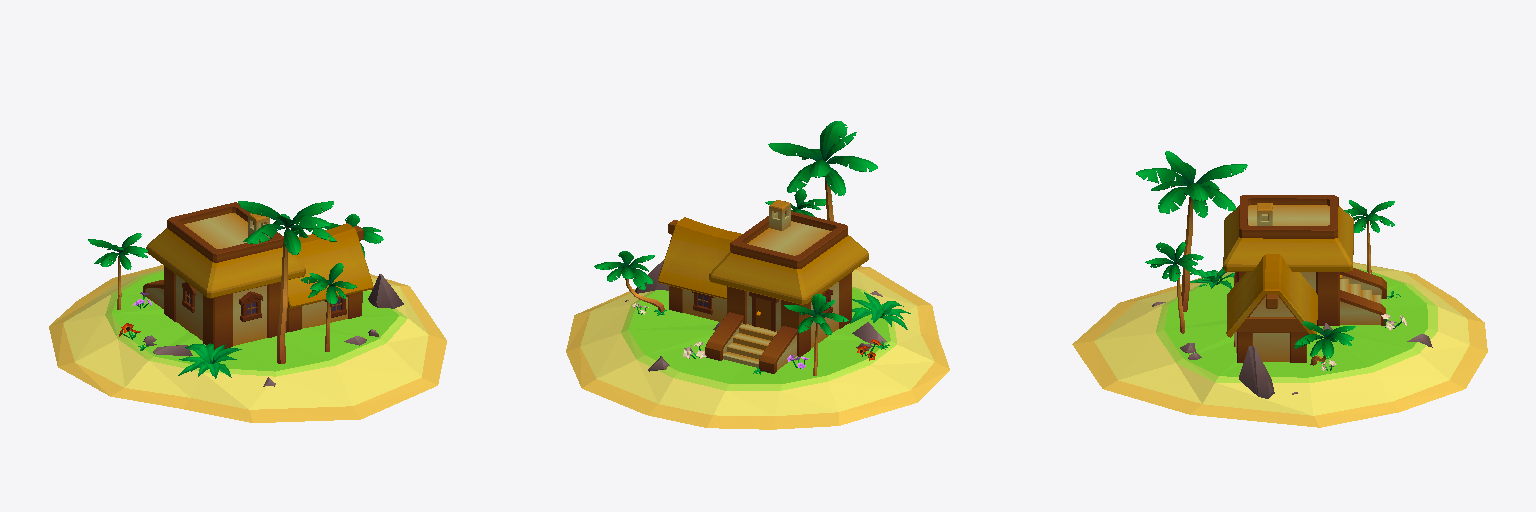
The picture shows the model from 3 angles: view 1: azimuth 30°, elevation 25°; view 2: azimuth 150°, elevation 25°; view 3: azimuth 270°, elevation 25°; orthographic projection.
Visible parts, largest first — view 1: M_Island, Object001, Object002, Object003, B_Walls_2, B_Wood_01, roof001, Plant_01, PALM_TREE_A_TRUNK, B_Wood_04, B_Walls_1, B_Wood_02 (+1 smaller); view 2: M_Island, Object001, Object002, Object003, roof001, B_Stairs, Plant_01, B_Ramp_2, B_Ramp_1, B_Walls_2, B_Wood_02, B_Walls_1 (+4 smaller); view 3: M_Island, Object001, Object002, Object003, B_Walls_1, roof001, B_Wood_03, B_Wood_09, ramp003, PALM_TREE_A_TRUNK, B_Ramp_2.
Boxes of the visible parts, box(x1,y1,x2,y2) form: M_Island: box(49, 265, 446, 422); Object001: box(146, 228, 305, 298); Object002: box(288, 223, 373, 308); Object003: box(167, 202, 283, 262); B_Walls_2: box(176, 275, 266, 345); B_Wood_01: box(203, 293, 232, 349); roof001: box(184, 213, 247, 248); Plant_01: box(178, 343, 241, 378); PALM_TREE_A_TRUNK: box(277, 227, 288, 363); B_Wood_04: box(267, 282, 286, 337); B_Walls_1: box(302, 292, 362, 328); B_Wood_02: box(164, 266, 175, 321); M_Island: box(566, 260, 949, 429); Object001: box(709, 235, 868, 304); Object002: box(658, 217, 741, 299); Object003: box(730, 211, 847, 268); roof001: box(747, 221, 831, 255); B_Stairs: box(723, 324, 776, 367); Plant_01: box(850, 292, 910, 329); B_Ramp_2: box(705, 312, 743, 360); B_Ramp_1: box(759, 326, 797, 373); B_Walls_2: box(747, 282, 838, 347); B_Wood_02: box(781, 300, 810, 356); B_Walls_1: box(683, 289, 726, 321); M_Island: box(1072, 262, 1487, 427); Object001: box(1223, 205, 1353, 271); Object002: box(1226, 254, 1317, 337); Object003: box(1239, 195, 1338, 238); B_Walls_1: box(1234, 296, 1293, 361); roof001: box(1248, 205, 1329, 225); B_Wood_03: box(1316, 272, 1339, 325); B_Wood_09: box(1236, 317, 1307, 332); ramp003: box(1340, 301, 1380, 324); PALM_TREE_A_TRUNK: box(1181, 197, 1193, 311); B_Ramp_2: box(1340, 290, 1385, 325).
Size of the model in its own units: 9.56 by 4.73 by 9.91.
20 materials, 20 textured.